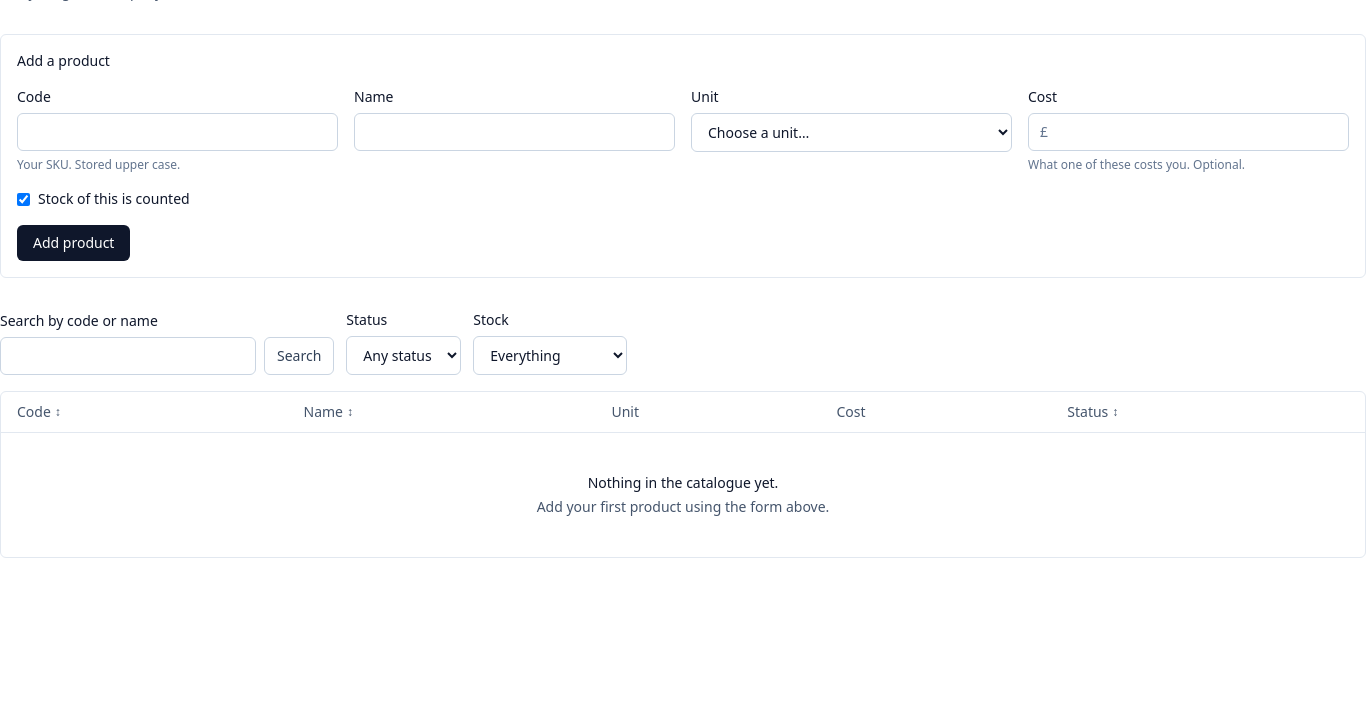
Test case: ProductsPage › adding a product › sends the code, the name, the unit and an exact cost
Check: the text "Nothing in the catalogue yet." is shown, box [588, 473, 778, 492]
Type "flour" into the field labelled "Code".
click(178, 132); type("flour")  # box [17, 113, 338, 151]
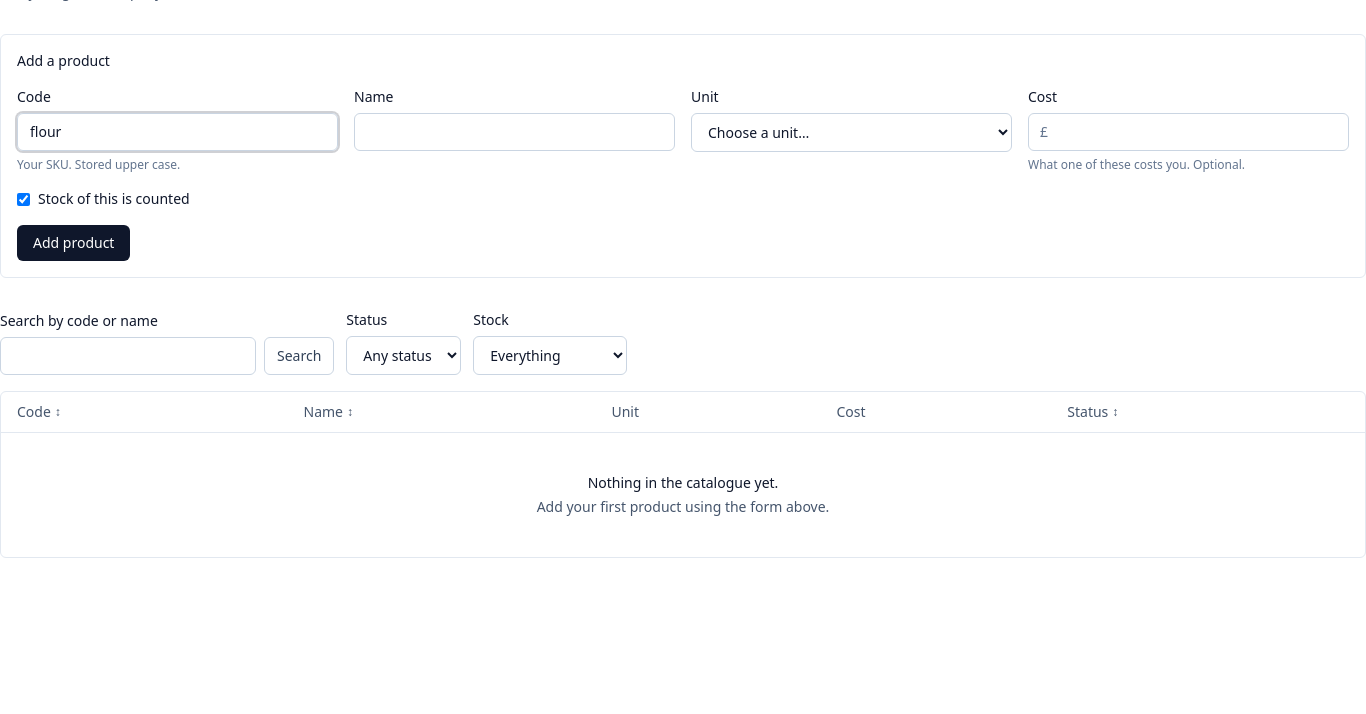
Type "Flour" into the field labelled "Name".
click(514, 132); type("Flour")  # box [354, 113, 675, 151]
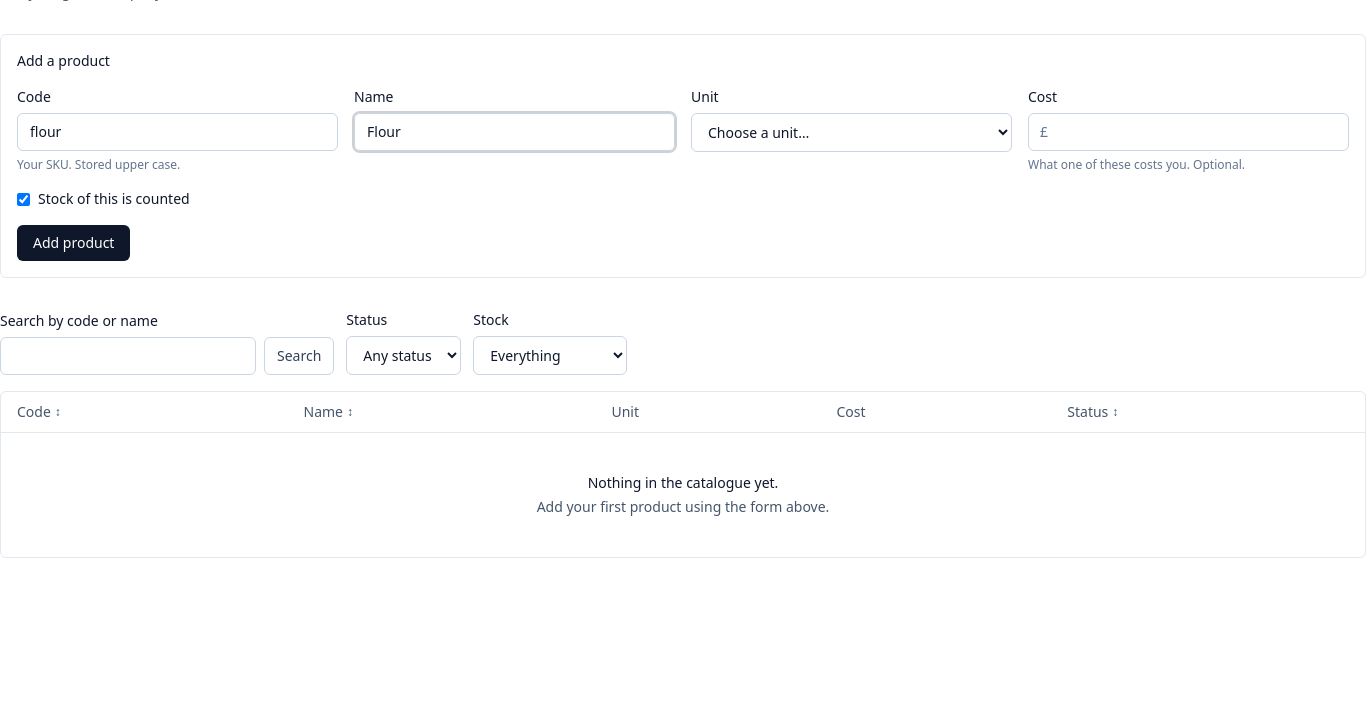
Select "kg — Kilogram" in the dropdown labelled "Unit" at (852, 132), box [691, 113, 1012, 152]
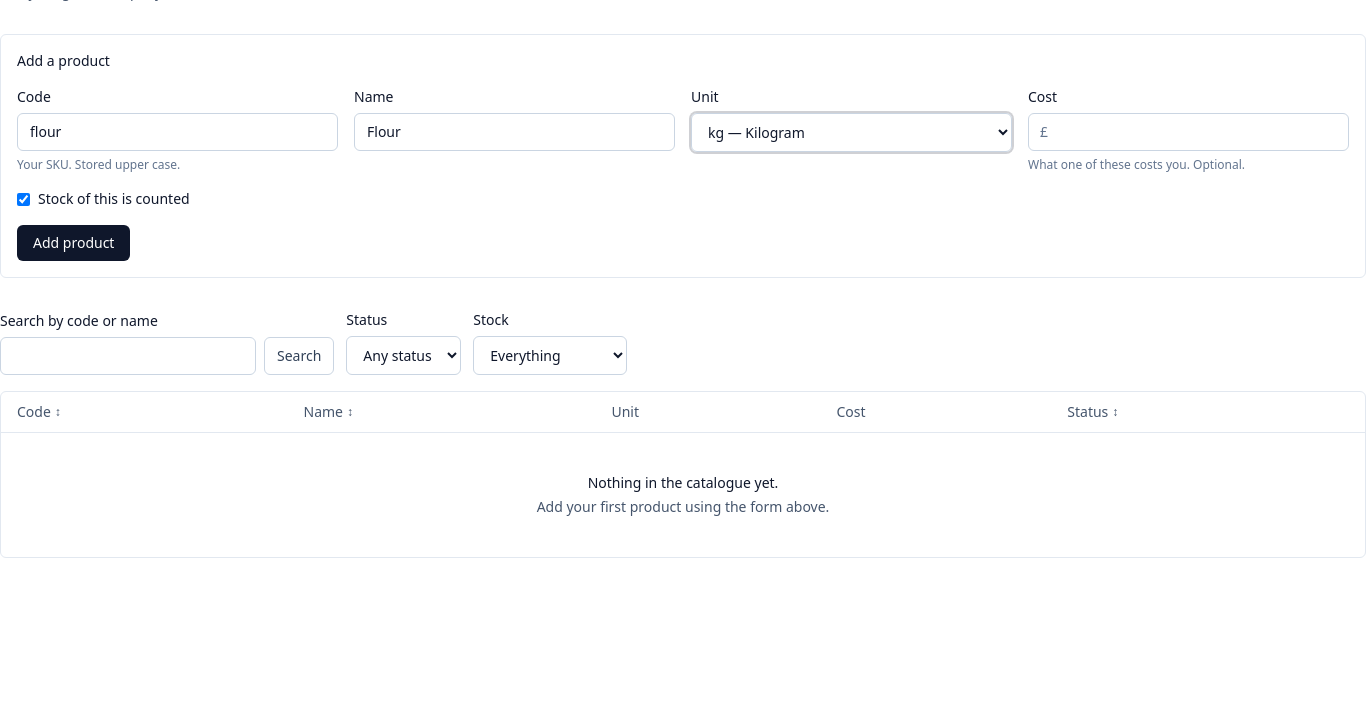
Type "1.25" into the field labelled "Cost".
click(1188, 132); type("1.25")  # box [1028, 113, 1349, 151]
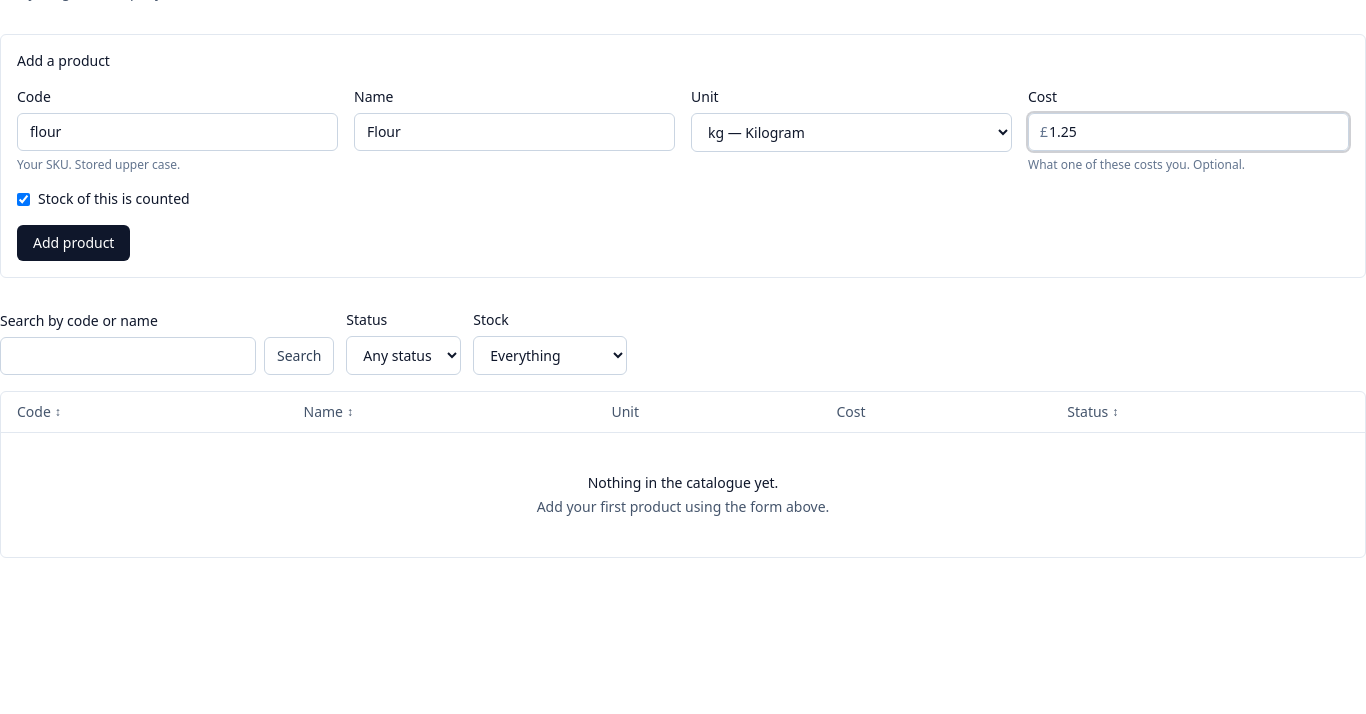
Click the button "Add product".
click(74, 243)  # box [17, 225, 130, 261]
(page scrolled)
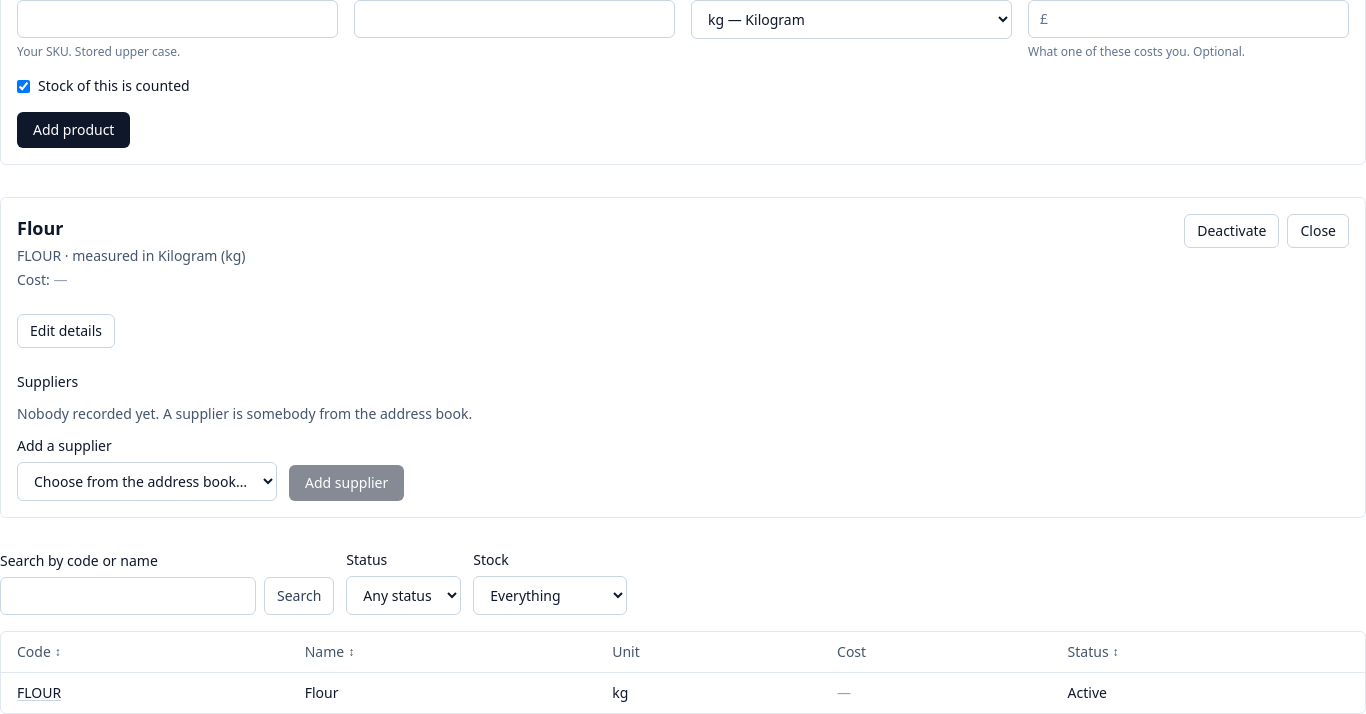
Check: the cell "FLOUR" is shown, box [1, 673, 289, 713]
